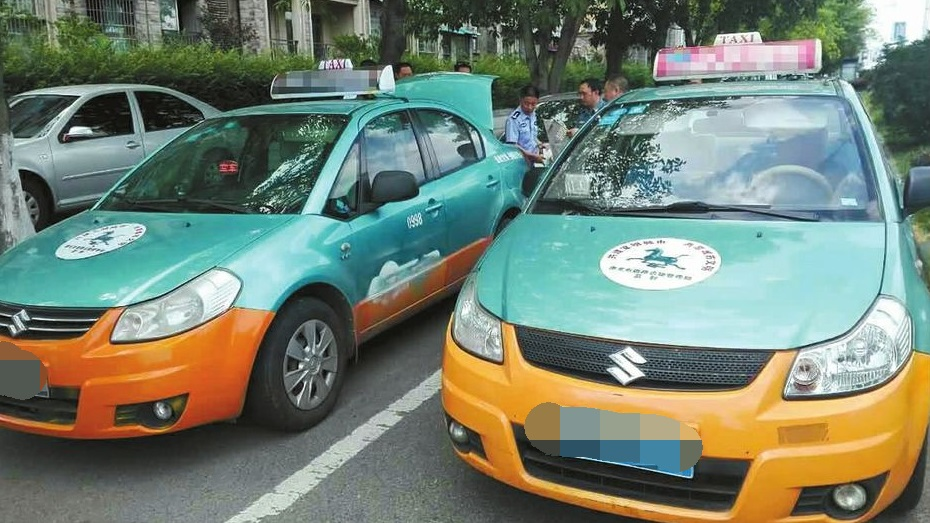taxi: (440, 31, 930, 523)
